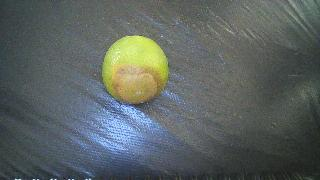DESECHO: (102, 36, 168, 104)
